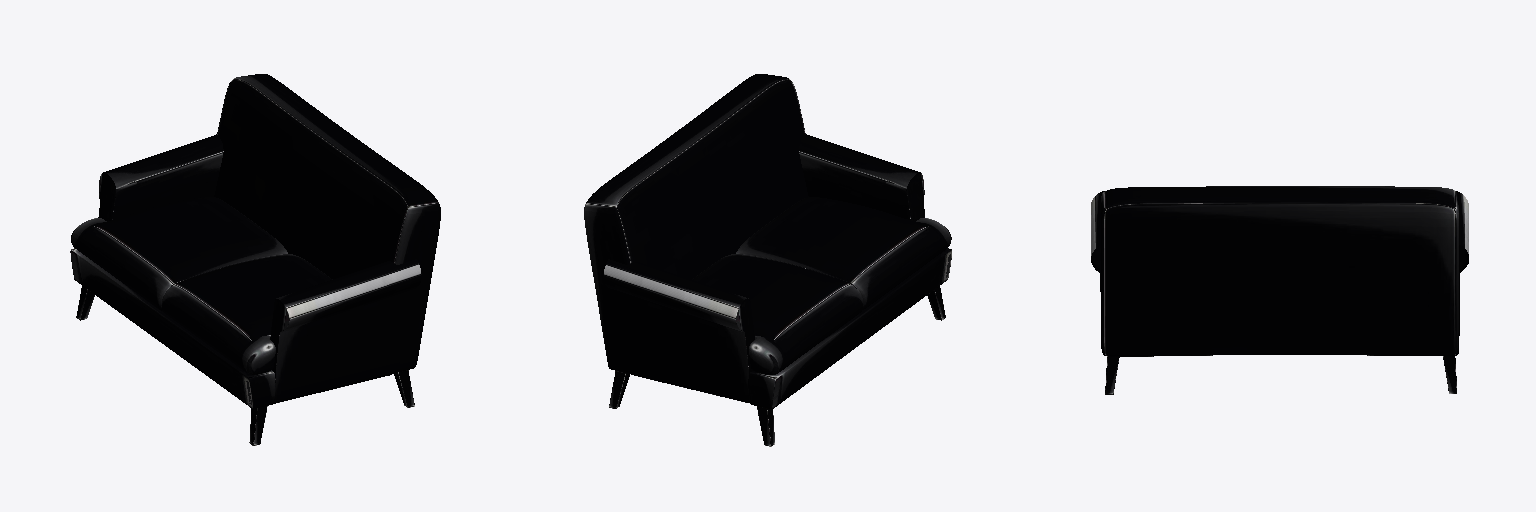
3 views of the same model, side by side, from view 1: azimuth 30°, elevation 25°; view 2: azimuth 150°, elevation 25°; view 3: azimuth 270°, elevation 25° (orthographic).
Parts seen in each view (by area): view 1: Box05, Object; view 2: Box05, Object; view 3: Box05, Object.
Boxes of the visible parts, box(x1,y1,x2,y2) form: Box05: box(70, 74, 440, 408); Object: box(76, 286, 414, 445); Box05: box(584, 74, 951, 409); Object: box(609, 286, 945, 446); Box05: box(1091, 186, 1468, 356); Object: box(1105, 356, 1456, 394).
Size of the model in its own units: 4.4 by 4.49 by 7.42.
Materials: 1 (1 with a texture image).